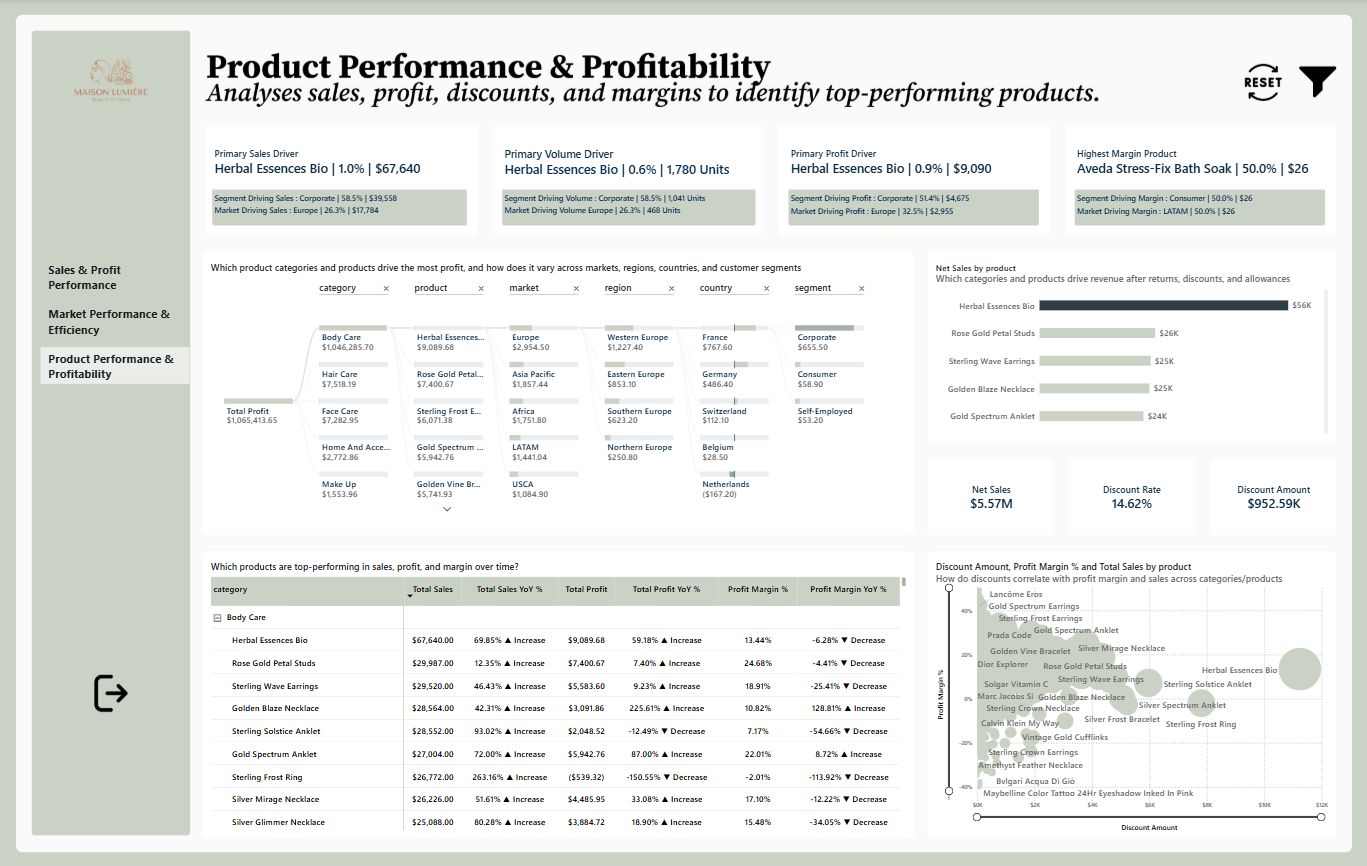

The dashboard page shown, as its layout file describes it:
{"tool":"powerbi","page":{"name":"Product Performance & Profitability","canvas":[2588,1643],"ordinal":2},"visuals":[{"type":"cardVisual","fields":{"Data":["Product KPIs.Primary Sales Driver"]},"box":[382.6,238.5,519.3,208.7],"z":0},{"type":"cardVisual","fields":{"Data":["Product KPIs.Primary Profit Driver"]},"box":[1473.4,238.5,511.8,208.7],"z":1000},{"type":"cardVisual","fields":{"Data":["Product KPIs.Primary Volume Driver"]},"box":[931.7,238.5,516.8,208.7],"z":2000},{"type":"cardVisual","fields":{"Data":["Product KPIs.Highest Margin Product :"]},"box":[2015.1,238.5,511.8,208.7],"z":3000},{"type":"scatterChart","fields":{"Size":["Calculated Measures.Total Sales"],"Category":["DimProduct.category","DimProduct.product"],"X":["Sum(FactSales.Discount Amount)"],"Y":["Calculated Measures.Profit Margin %"]},"box":[1754.2,1046,772.7,541.7],"z":4000},{"type":"clusteredBarChart","fields":{"Category":["DimProduct.category","DimProduct.product"],"Y":["Calculated Measures.Net Sales"]},"box":[1754.2,479.5,772.7,357.8],"z":5000},{"type":"pivotTable","title":"Which products are top-performing in sales, profit, and margin over time?","fields":{"Values":["Calculated Measures.Total Sales","YOY & MOM.Total Sales YoY % + Indicator","Calculated Measures.Total Profit","YOY & MOM.Total Profit YoY % + Indicator","Calculated Measures.Profit Margin %","YOY & MOM.Profit Margin YoY % + Indicator"],"Rows":["DimProduct.category","DimProduct.product"]},"box":[382.6,1046,1346.7,541.7],"z":6000},{"type":"decompositionTreeVisual","title":"Which product categories and products drive the most profit, and how does it vary across markets, regions, countries, and customer segments","fields":{"ExplainBy":["DimProduct.category","DimProduct.product","DimGeography.market","DimGeography.region","DimGeography.country","DimCustomer.segment"],"Analyze":["Calculated Measures.Total Profit"]},"box":[382,479.4,1345.6,532.9],"z":7000},{"type":"cardVisual","fields":{"Data":["Calculated Measures.Net Sales"]},"box":[1754.2,872.1,241,141.6],"z":8000},{"type":"cardVisual","fields":{"Data":["Calculated Measures.Discount Rate"]},"box":[2020,872.1,243.5,141.6],"z":9000},{"type":"cardVisual","fields":{"Data":["Sum(FactSales.Discount Amount)"]},"box":[2290.9,872.1,236,141.6],"z":10000},{"type":"actionButton","title":"Reset","box":[2337.5,115,100,85],"z":11000},{"type":"actionButton","title":"Slicer button","box":[2443.3,116.7,100,83.3],"z":12000},{"type":"actionButton","title":"Back","box":[155,1270,100,85],"z":14000},{"type":"pageNavigator","box":[61.5,475.3,298,269.6],"z":15000}]}

Visuals, with their boxes in screenshot pixels (x1, y1, x2, y2), scaled from the page's 2588x1643 canvas onto the 1367x866 screenshot:
cardVisual - Product KPIs.Primary Sales Driver: <bbox>202, 126, 476, 236</bbox>
cardVisual - Product KPIs.Primary Profit Driver: <bbox>778, 126, 1049, 236</bbox>
cardVisual - Product KPIs.Primary Volume Driver: <bbox>492, 126, 765, 236</bbox>
cardVisual - Product KPIs.Highest Margin Product :: <bbox>1064, 126, 1335, 236</bbox>
scatterChart - Calculated Measures.Total Sales x DimProduct.category: <bbox>927, 551, 1335, 837</bbox>
clusteredBarChart - DimProduct.category x DimProduct.product: <bbox>927, 253, 1335, 441</bbox>
"Which products are top-performing in sales, profit, and margin over time?" pivotTable: <bbox>202, 551, 913, 837</bbox>
"Which product categories and products drive the most profit, and how does it vary across markets, regions, countries, and customer segments" decompositionTreeVisual: <bbox>202, 253, 913, 534</bbox>
cardVisual - Calculated Measures.Net Sales: <bbox>927, 460, 1054, 534</bbox>
cardVisual - Calculated Measures.Discount Rate: <bbox>1067, 460, 1196, 534</bbox>
cardVisual - Sum(FactSales.Discount Amount): <bbox>1210, 460, 1335, 534</bbox>
"Reset" actionButton: <bbox>1235, 61, 1288, 105</bbox>
"Slicer button" actionButton: <bbox>1291, 62, 1343, 105</bbox>
"Back" actionButton: <bbox>82, 669, 135, 714</bbox>
pageNavigator: <bbox>32, 251, 190, 393</bbox>
